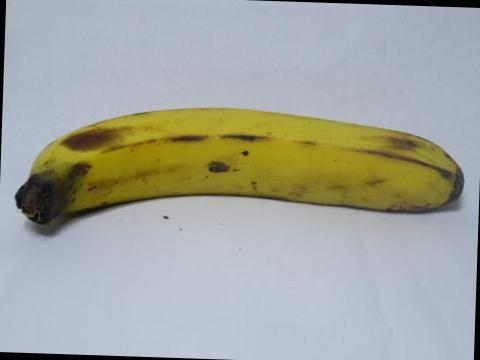ripe: (10, 97, 473, 253)
